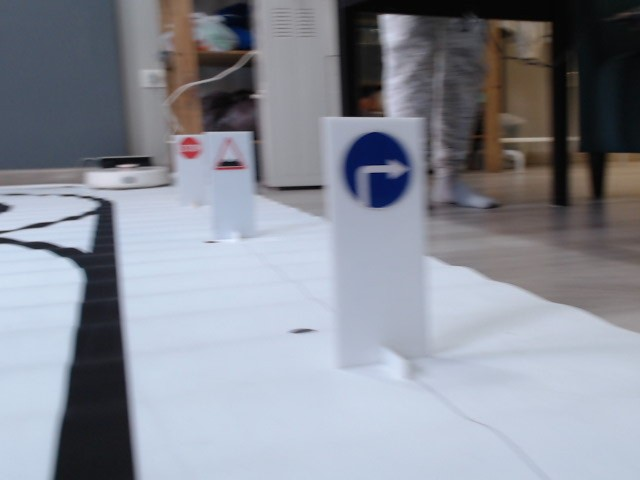Nerov: (212, 138, 246, 171)
Right: (342, 133, 409, 204)
